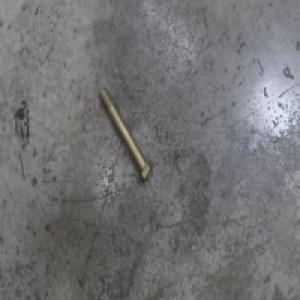Bolt: (98, 85, 154, 185)
